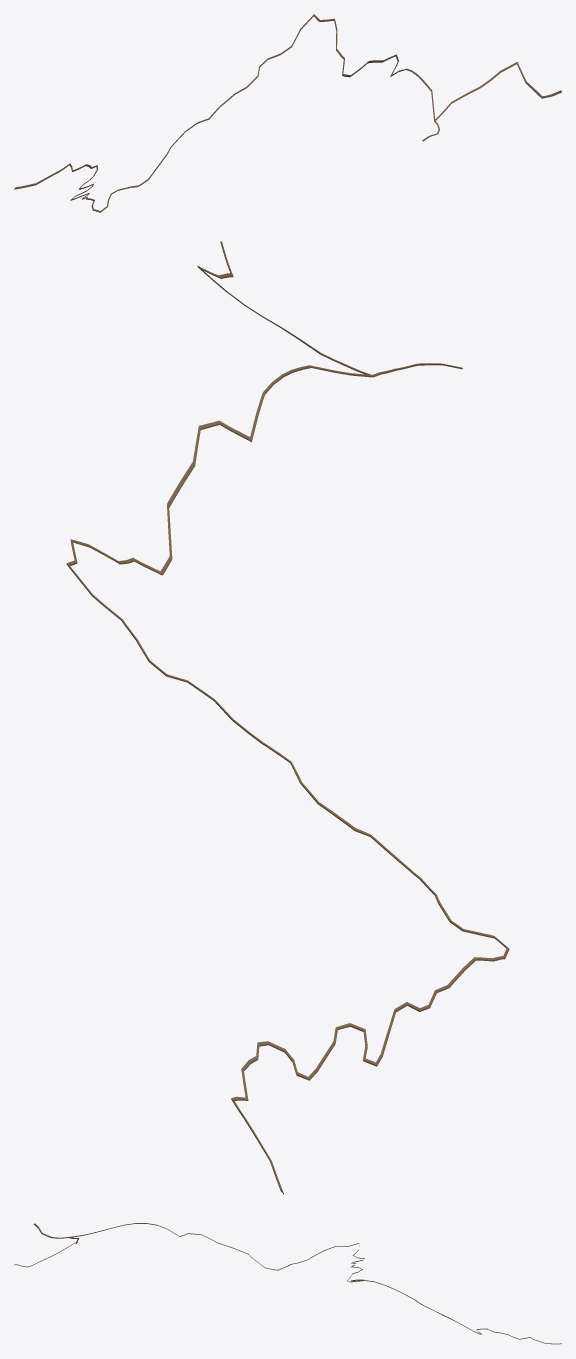
The picture shows the model from 3 angles, top to bottom: view 1: azimuth 30°, elevation 25°; view 2: azimuth 150°, elevation 25°; view 3: azimuth 270°, elevation 25°; orthographic projection. The views are drawn at different scales.
Bounding box in the file's own units: 345 × 248 × 506.
